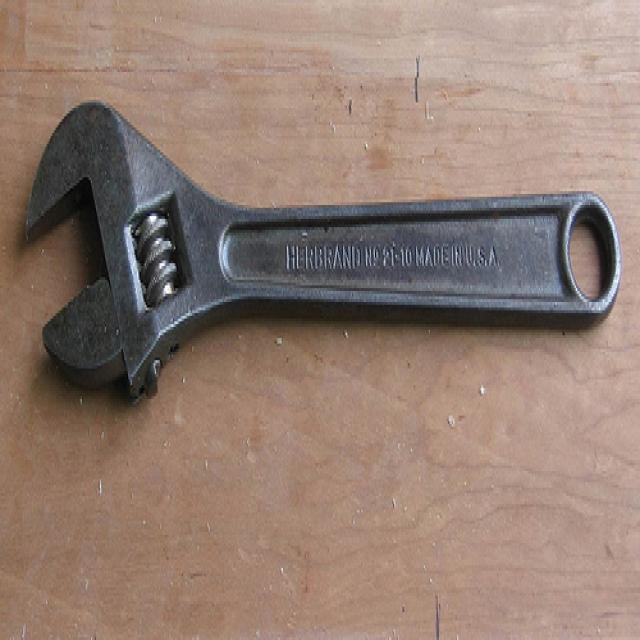wrench: (17, 86, 640, 416)
